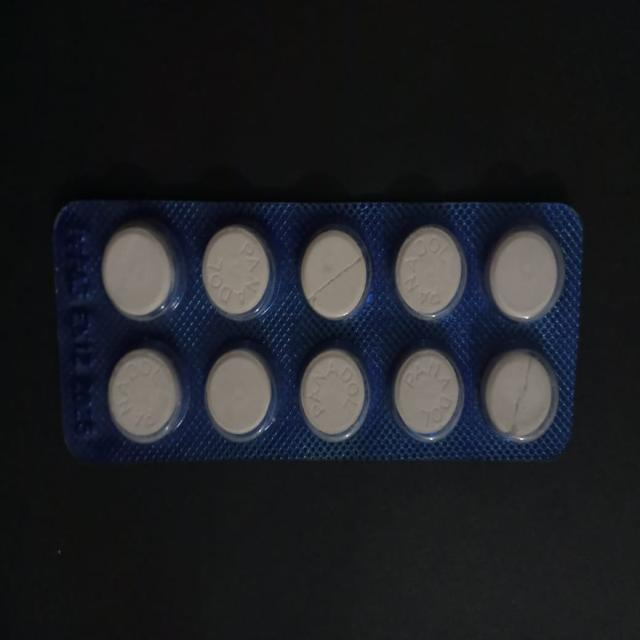defect: (478, 343, 564, 444), (296, 221, 374, 326)
